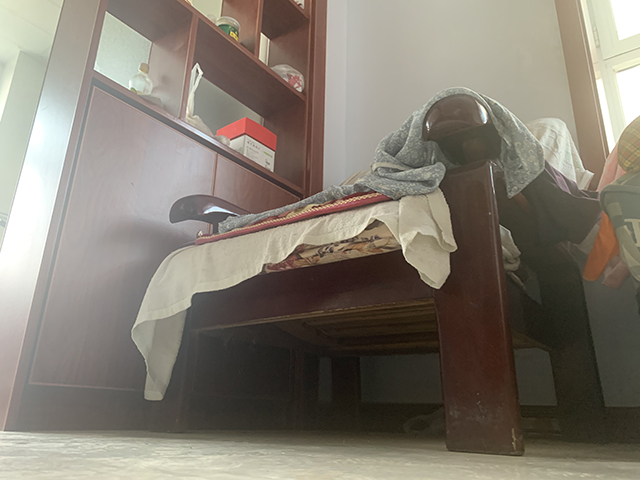cabinet: (1, 66, 328, 432)
sofa: (131, 86, 612, 457)
